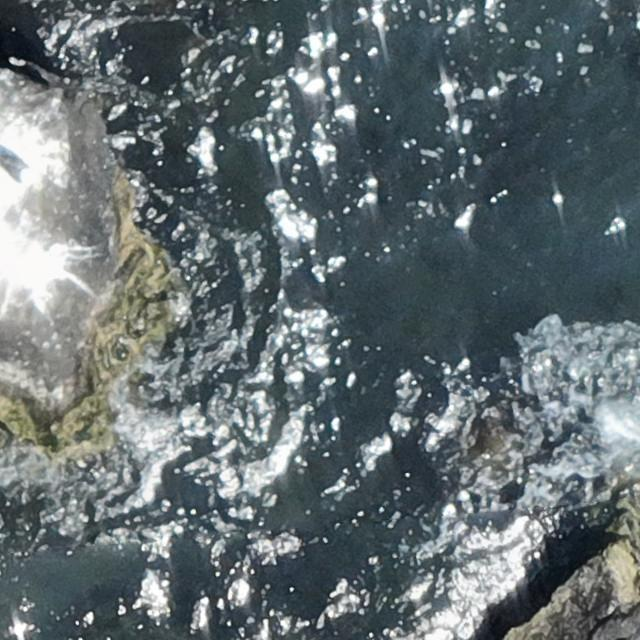umineko: (2, 153, 40, 188)
